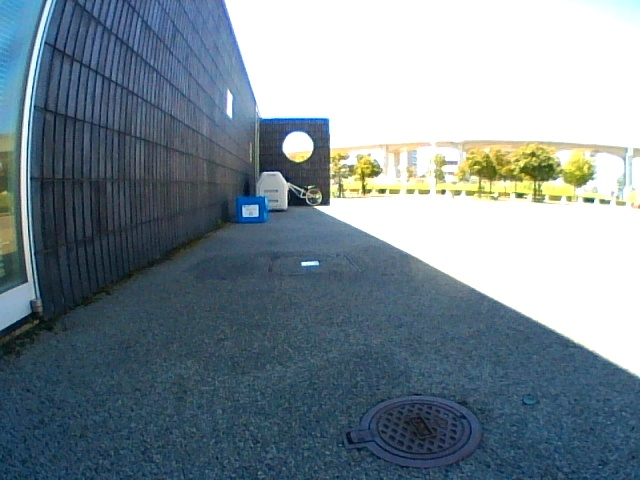blue_box: (235, 195, 267, 223)
tag: (243, 205, 258, 216)
